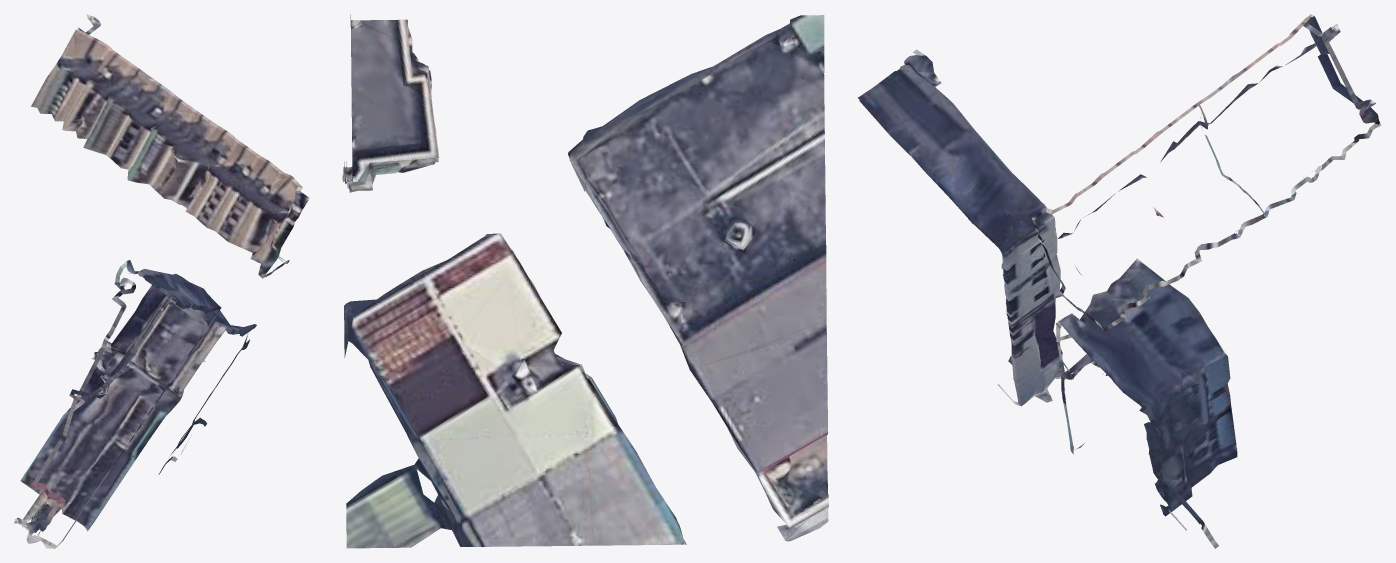
3 renders of one model, left to right at view 1: azimuth 30°, elevation 25°; view 2: azimuth 150°, elevation 25°; view 3: azimuth 270°, elevation 25°, orthographic. The views are drawn at different scales.
Size of the model in its own units: 37.23 by 48.43 by 46.43.
Materials: 2 (2 with a texture image).
